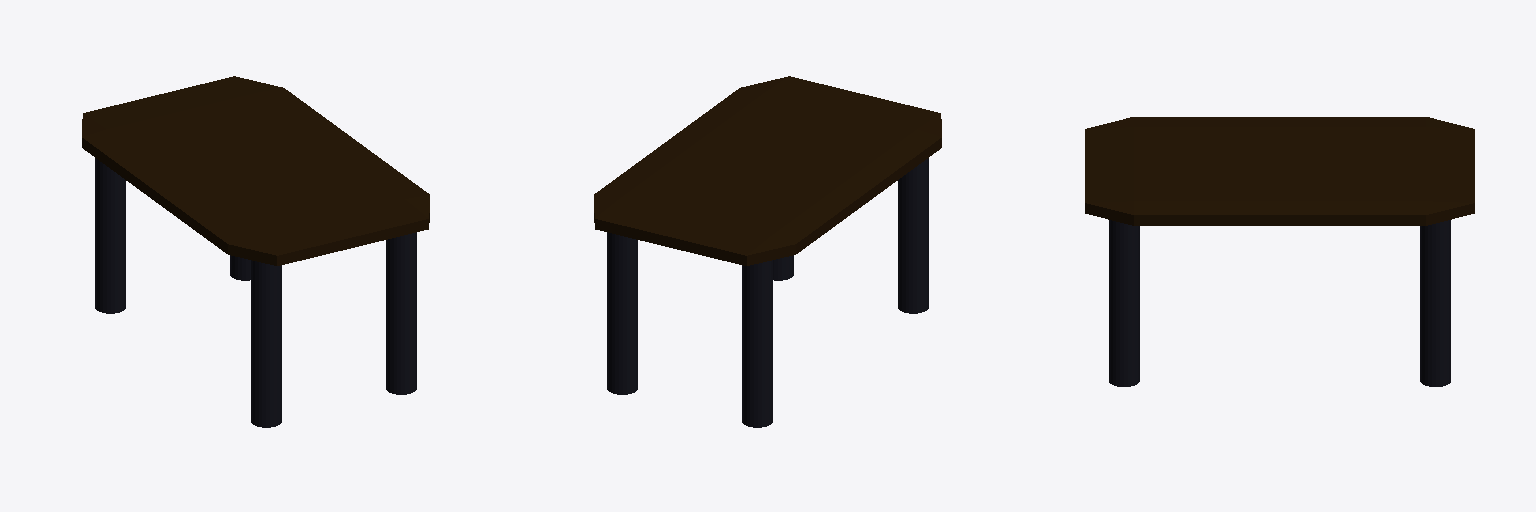
The model's file is 3DM_Desk.obj.
The picture shows the model from 3 angles: view 1: azimuth 30°, elevation 25°; view 2: azimuth 150°, elevation 25°; view 3: azimuth 270°, elevation 25°; orthographic projection.
Visible parts, largest first — view 1: block_bevel, cylinder; view 2: block_bevel, cylinder; view 3: block_bevel, cylinder.
Part boxes in pixels (x1,y1,x2,y2): block_bevel: (82,76,429,265); cylinder: (95,158,416,427); block_bevel: (594,76,941,265); cylinder: (607,158,928,427); block_bevel: (1085,117,1474,225); cylinder: (1109,220,1450,386).
Size of the model in its own units: 1.5 by 1.3 by 2.5.